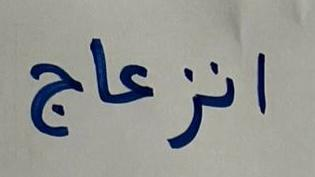ain: (117, 53, 159, 114)
alef: (246, 40, 293, 147), (87, 32, 115, 114)
jeem: (23, 49, 85, 147)
noon: (206, 51, 241, 122)
zain: (165, 58, 205, 151)
